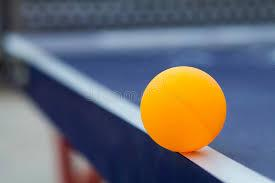oball: (139, 65, 229, 154)
